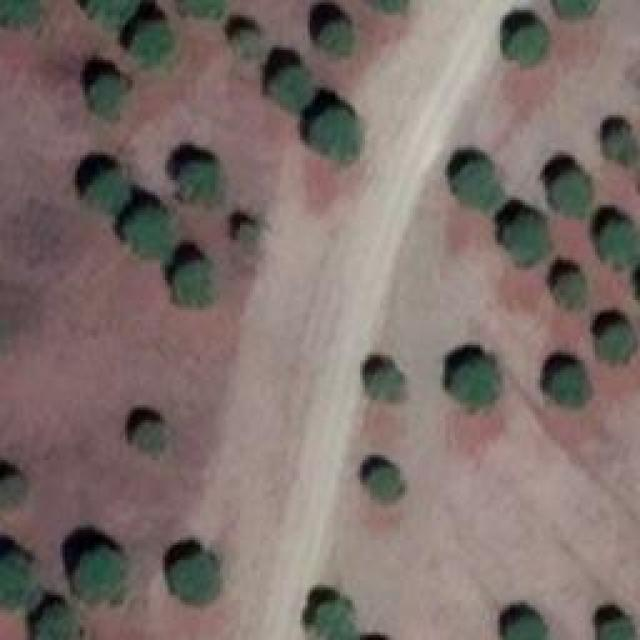Tree: (305, 108, 365, 168), (70, 548, 130, 608), (165, 553, 218, 603), (450, 355, 500, 408), (550, 168, 598, 221), (595, 220, 640, 273), (265, 68, 315, 113), (165, 257, 210, 305), (503, 210, 548, 258), (128, 205, 171, 253), (130, 23, 173, 68), (173, 160, 218, 203), (593, 318, 636, 363), (545, 365, 590, 408), (92, 75, 130, 123), (0, 550, 30, 605), (38, 602, 81, 640), (505, 25, 548, 63), (315, 597, 352, 640), (85, 0, 140, 28), (313, 20, 353, 58), (90, 170, 128, 210), (455, 160, 493, 200), (130, 417, 168, 455), (602, 127, 640, 165), (365, 368, 403, 401), (550, 270, 585, 305), (368, 465, 403, 500), (0, 472, 32, 509), (0, 0, 42, 27), (233, 223, 263, 258), (177, 0, 224, 22), (505, 615, 545, 640), (592, 617, 635, 640), (555, 0, 598, 20), (235, 30, 265, 58)
